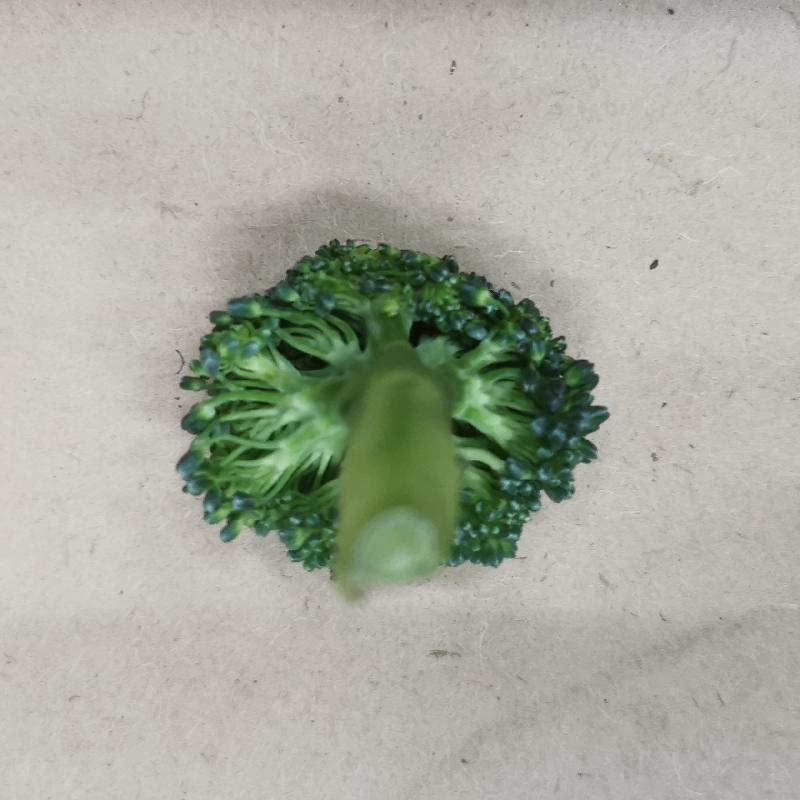broccoli: (179, 236, 611, 602)
